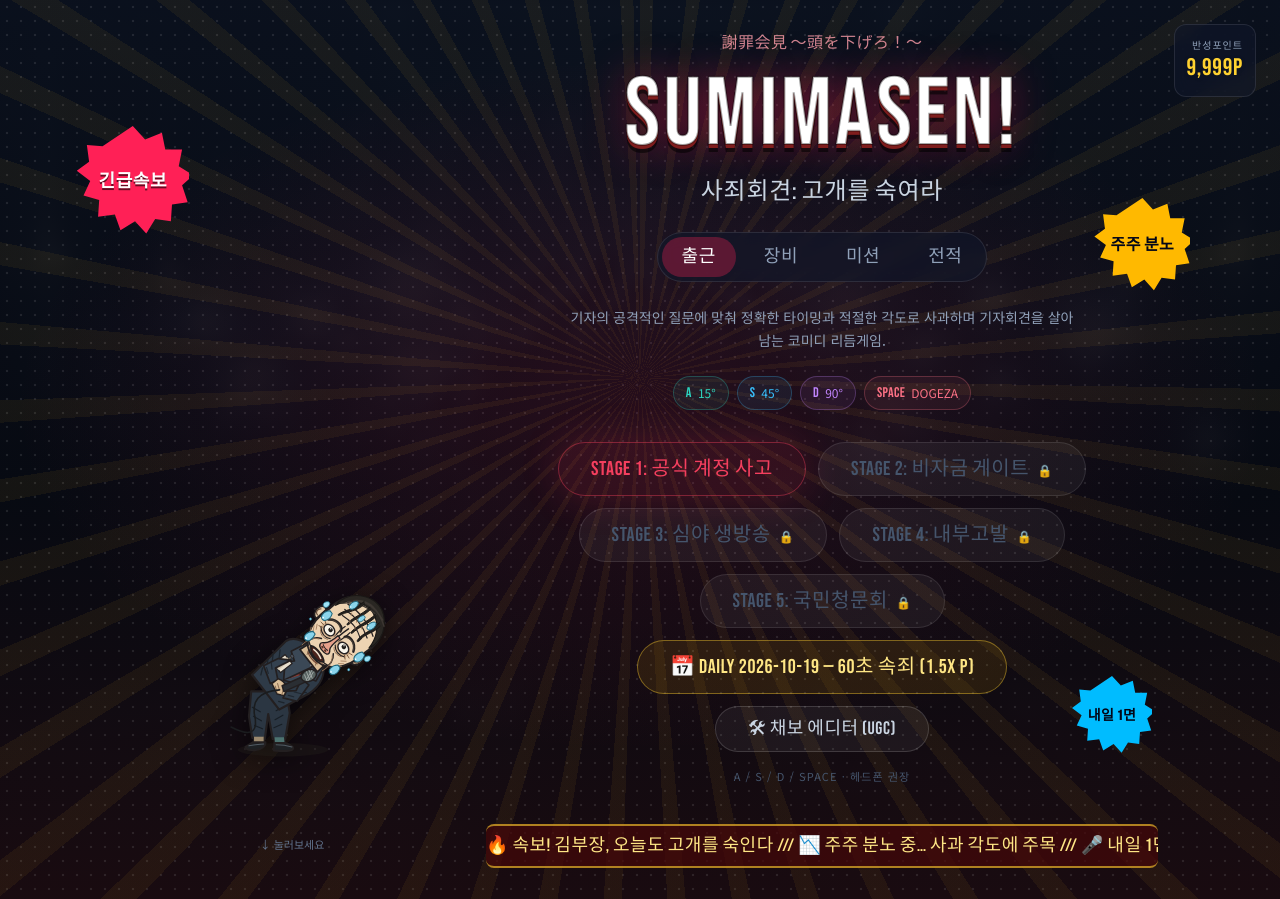
Scenario: TitleScreen › 상점: 보유한 스킬은 장착/해제 버튼이 되고 구매 버튼이 사라진다
This screenshot has width=1280, height=899.
Click the button "장비": {"x": 781, "y": 257} top-left (744, 237), bottom-right (818, 277)
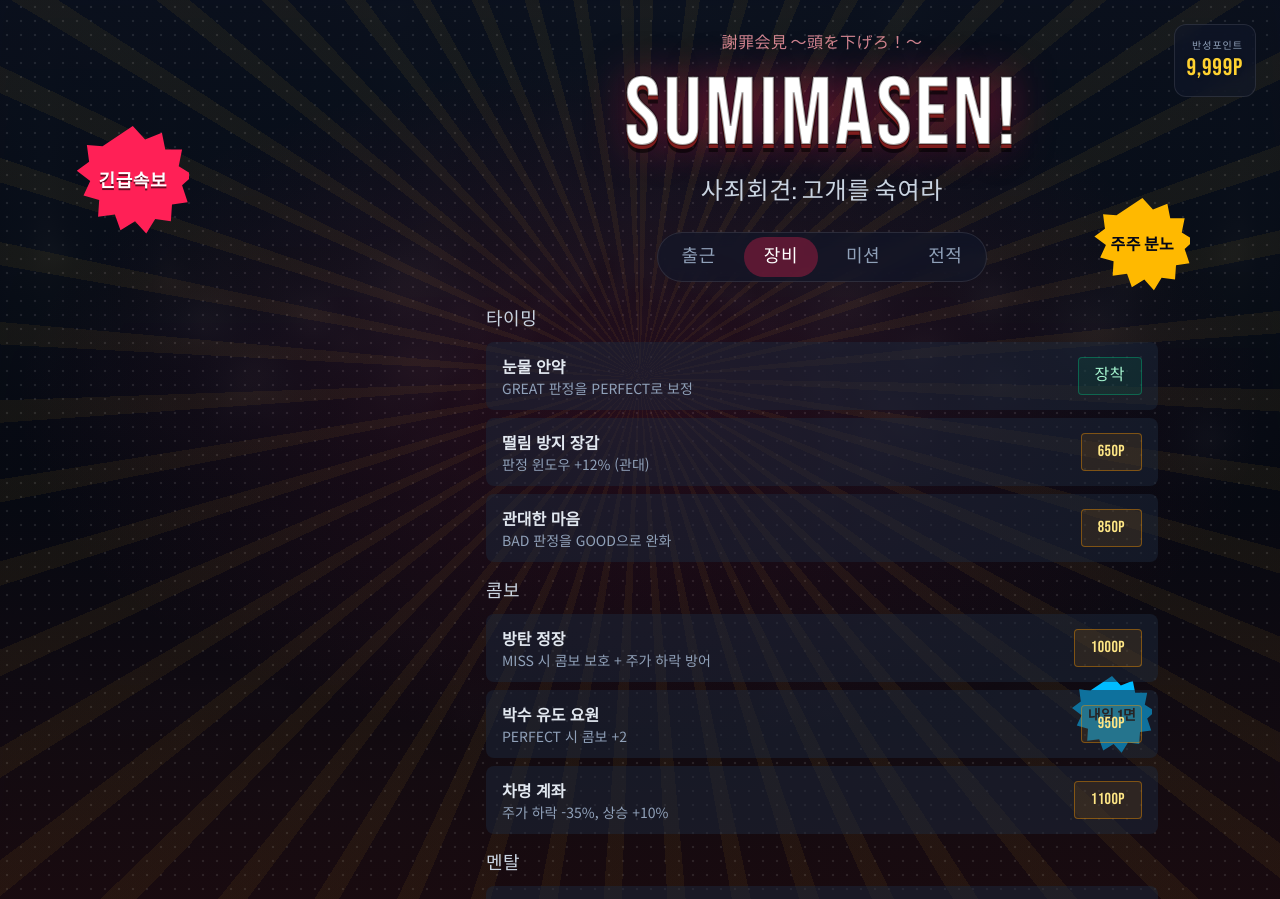
Expected: the button "장착" is shown, top-left (1078, 357), bottom-right (1142, 395)
